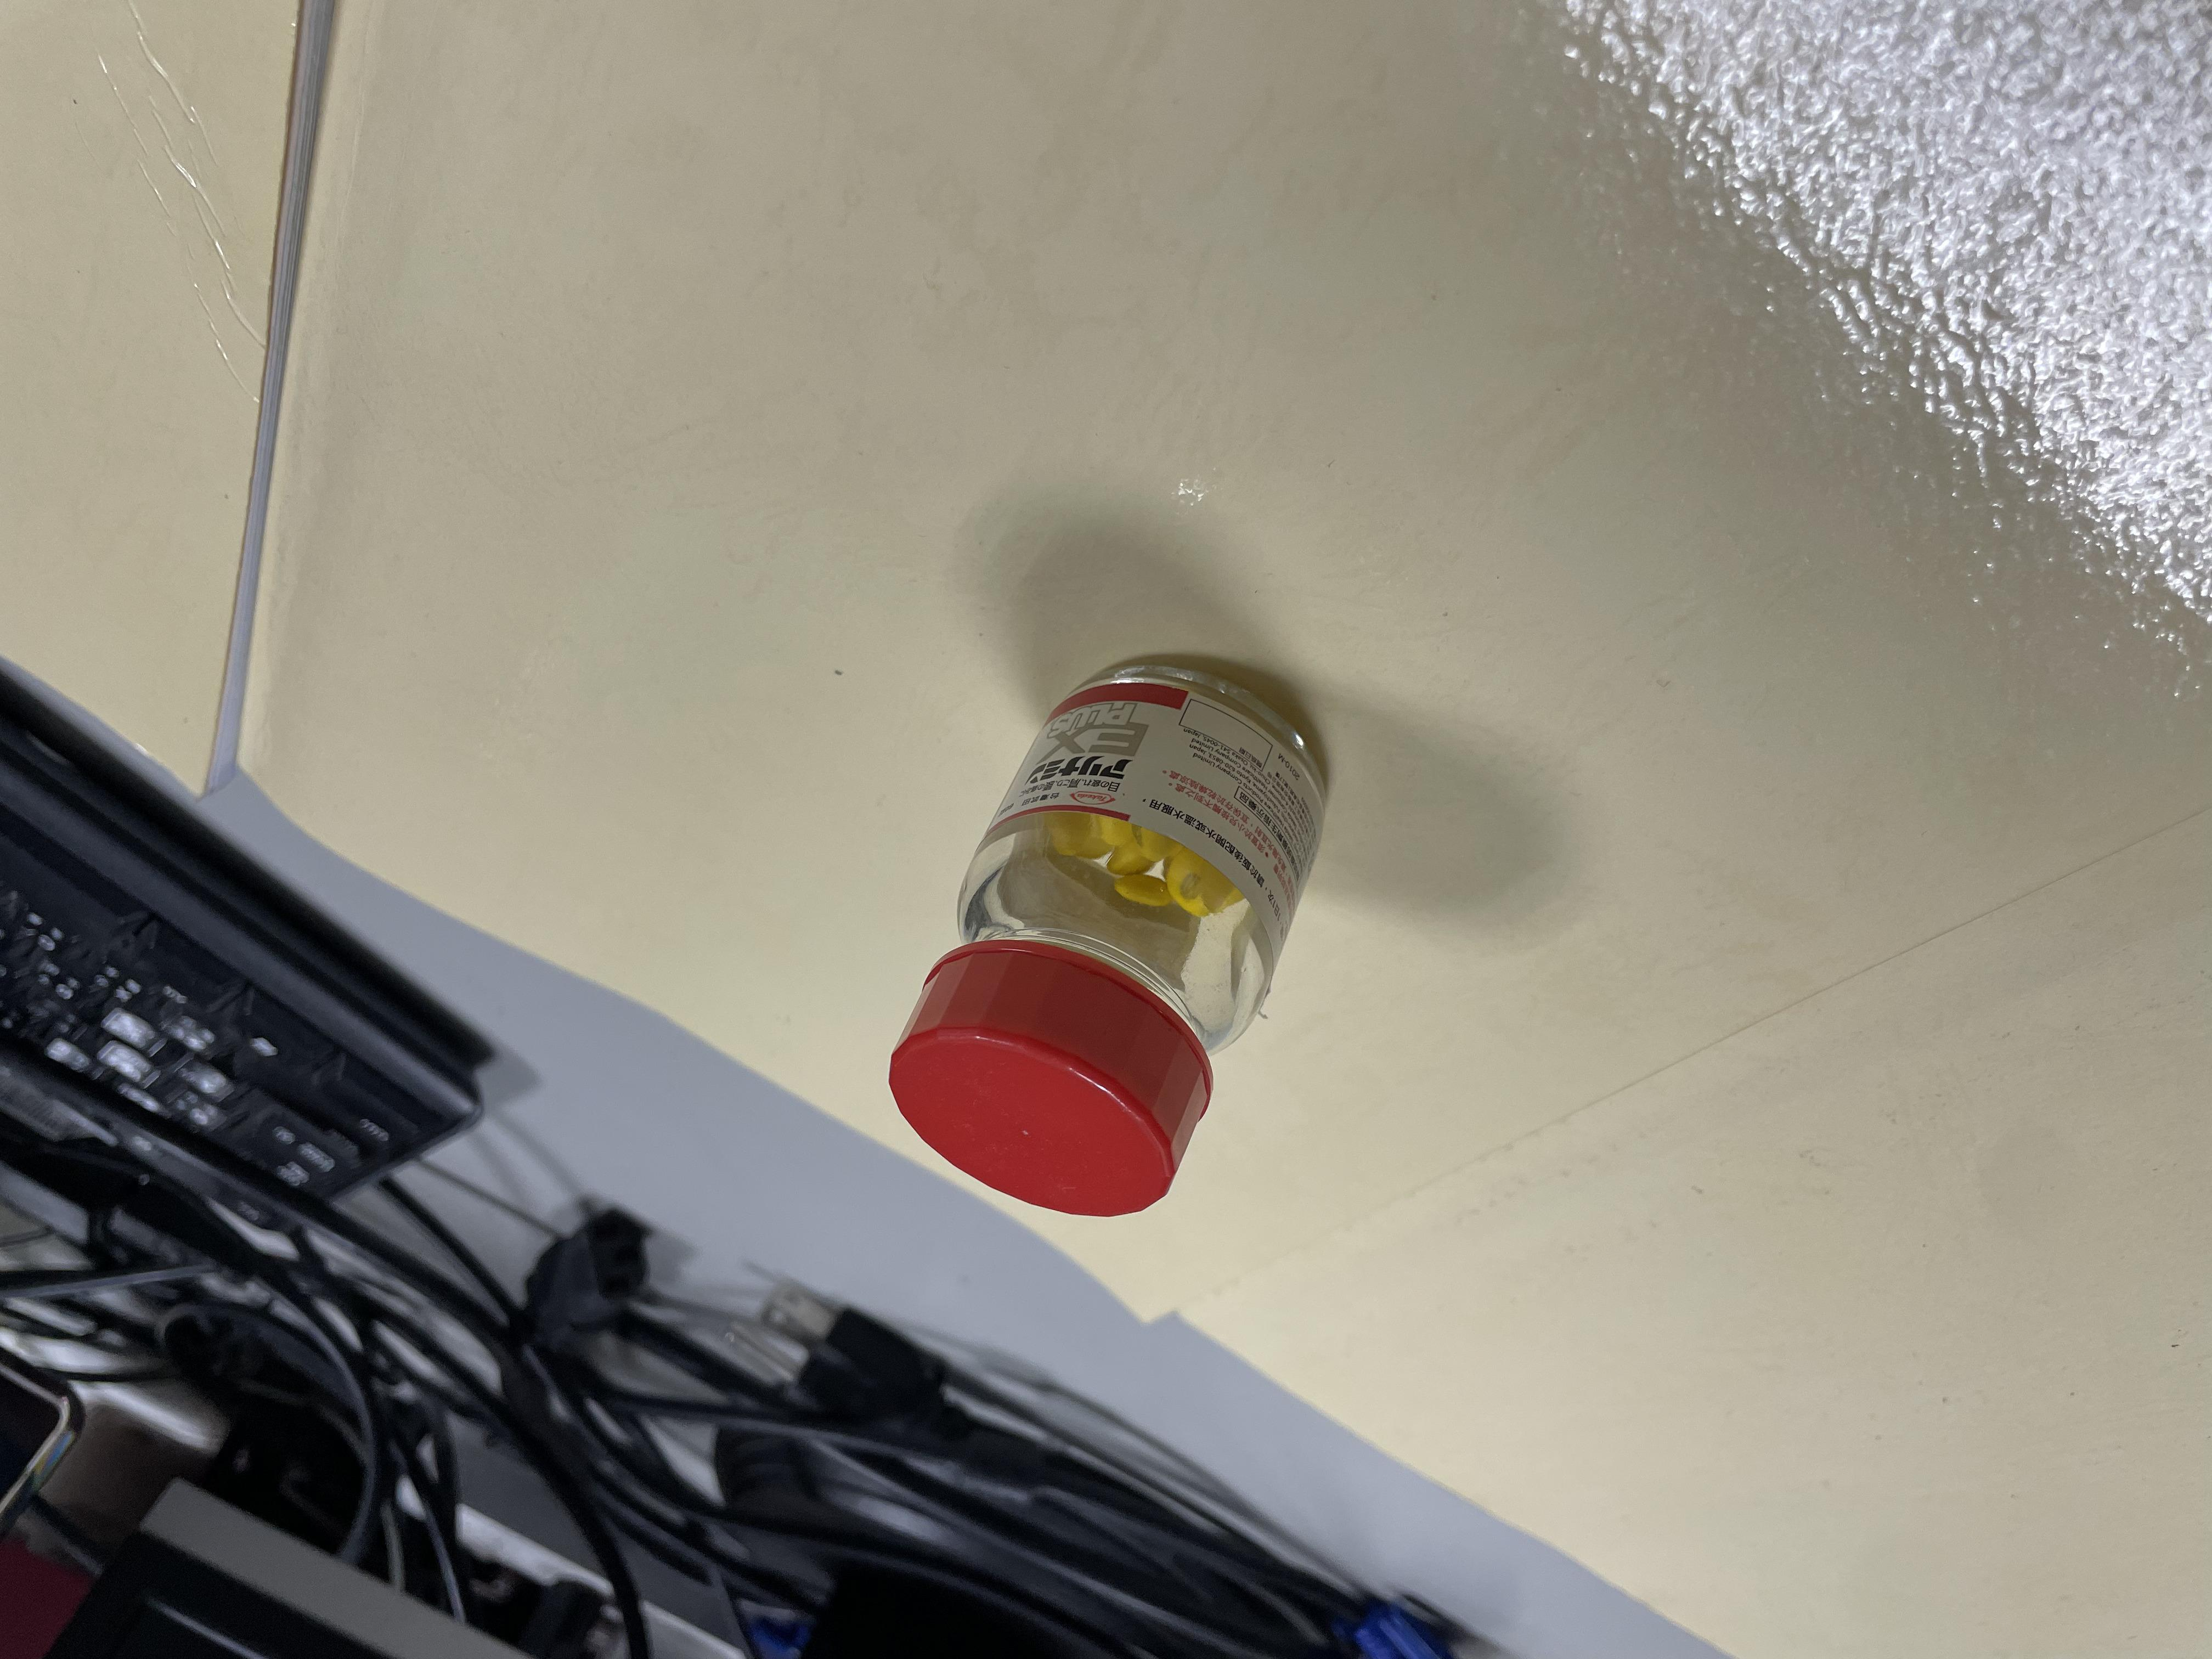jar: (831, 620, 1385, 1229)
